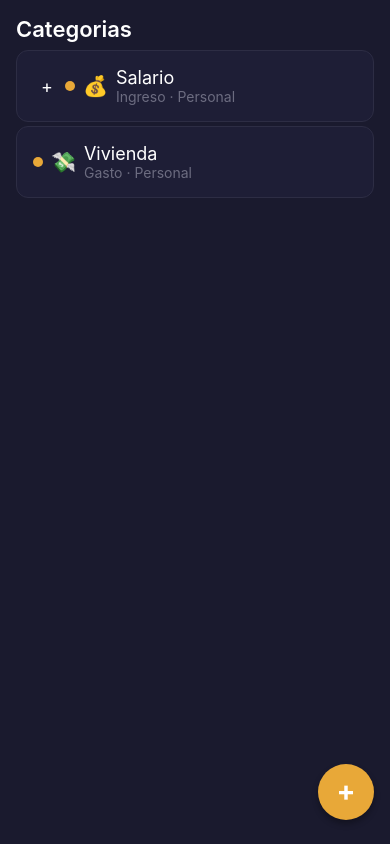
Test: CategoriesScreen › expands category to show children
Expected: the text "Salario" is shown, [116, 67, 174, 88]
Expected: the text "Freelance" is not shown
Note: The category expand button is the first one (FAB is the last)
Click the 1st button "+" at x=47, y=86, box [33, 72, 61, 100]
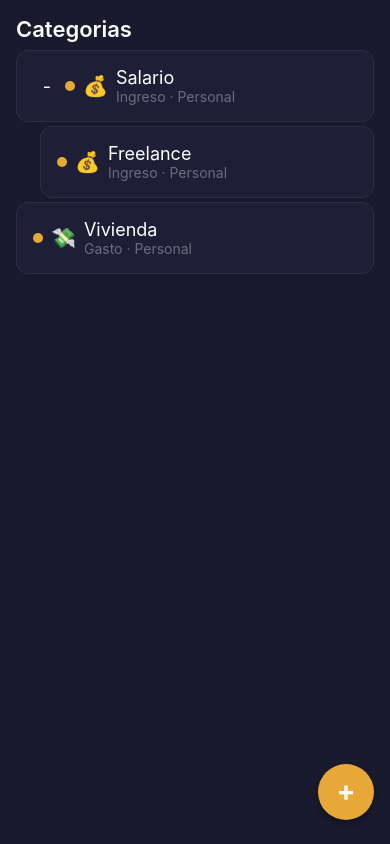
Result: the text "Freelance" is shown at [108, 143, 192, 164]
